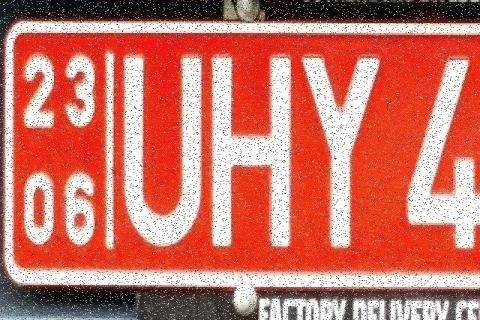LicensePlate: (2, 17, 480, 289)
